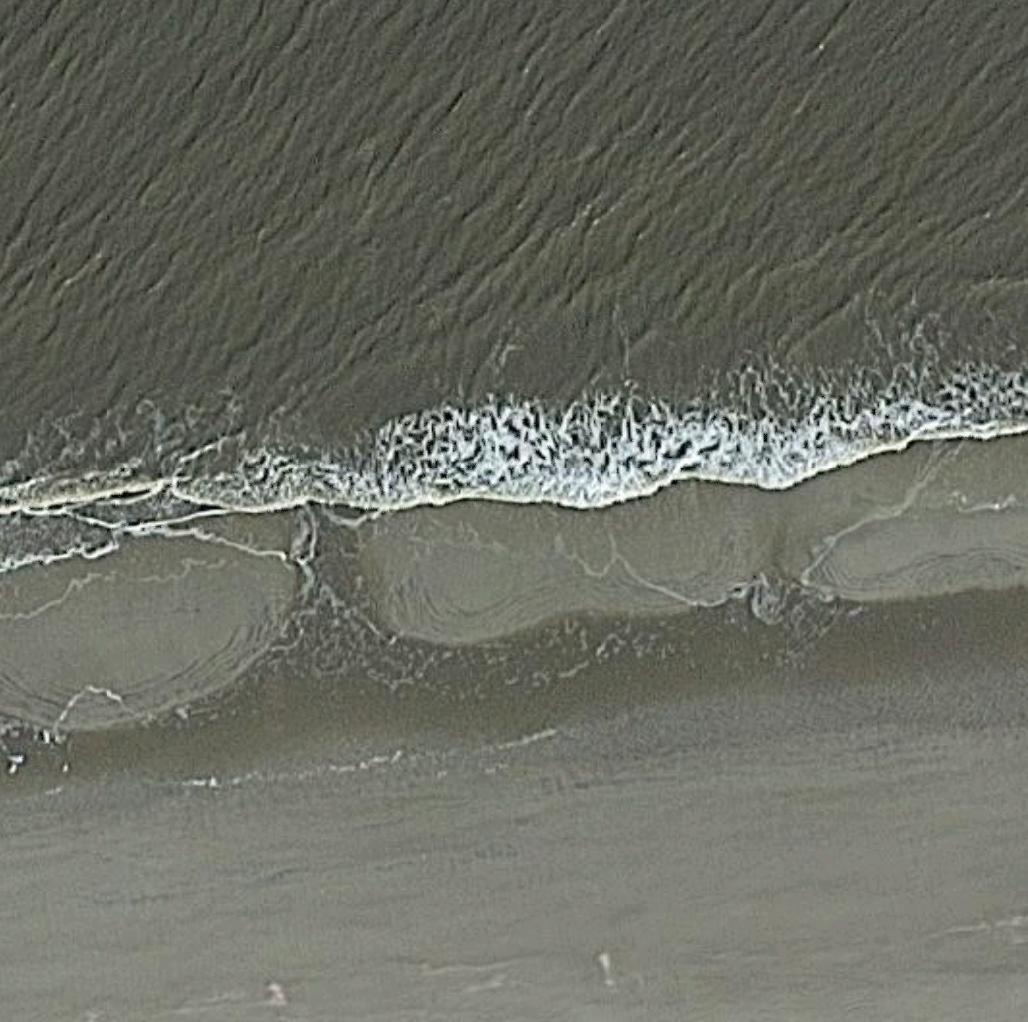rip_current: (241, 430, 429, 651)
